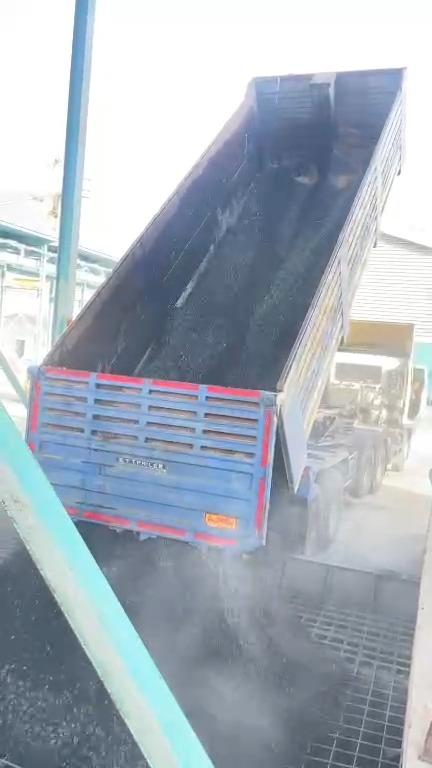gravel: (86, 527, 346, 767), (136, 169, 360, 389), (0, 551, 145, 767)
